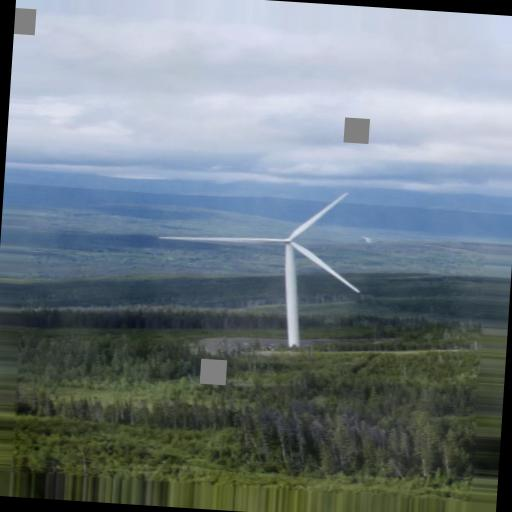wind turbine: (157, 189, 362, 343)
